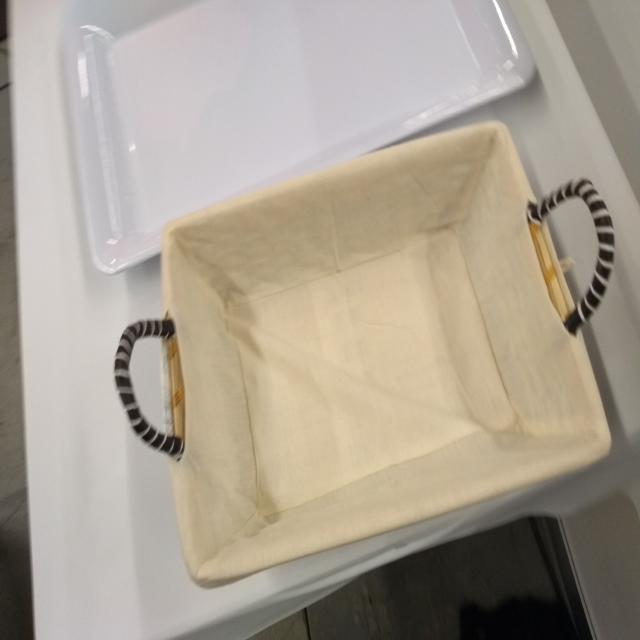basket: (118, 123, 626, 597)
